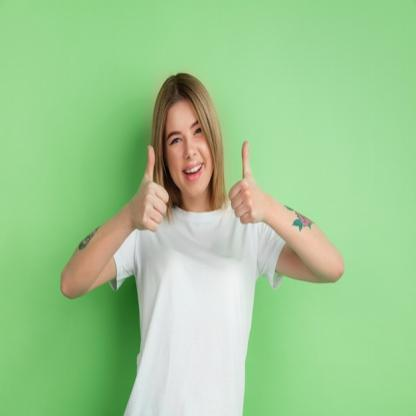thumb_up: (226, 138, 266, 234), (134, 143, 170, 237)
